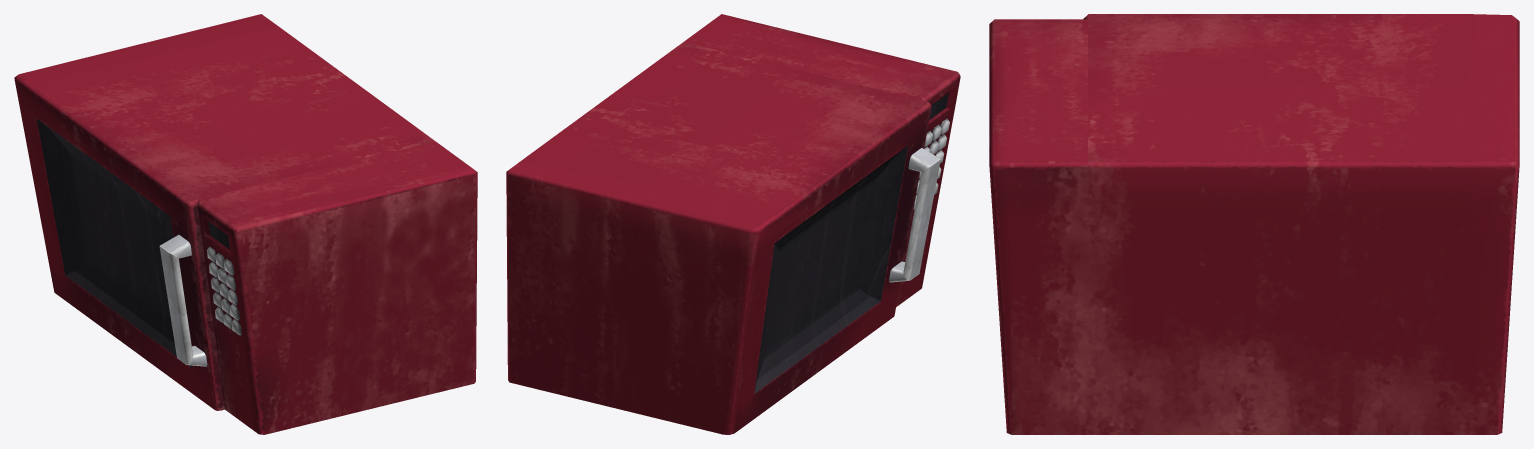
Rendered from SM_Microwave.fbx.
The picture shows the model from 3 angles, left to right: view 1: azimuth 30°, elevation 25°; view 2: azimuth 150°, elevation 25°; view 3: azimuth 270°, elevation 25°; orthographic projection. The views are drawn at different scales.
Visible parts, largest first — view 1: SM_Microwave_LOD0; view 2: SM_Microwave_LOD0; view 3: SM_Microwave_LOD0.
Part boxes in pixels (x1=…): SM_Microwave_LOD0: x1=14, y1=14, x2=477, y2=434; SM_Microwave_LOD0: x1=506, y1=14, x2=960, y2=434; SM_Microwave_LOD0: x1=989, y1=14, x2=1519, y2=434.
Size of the model in its own units: 50.98 by 70.37 by 39.33.
Materials: 1 (1 with a texture image).
